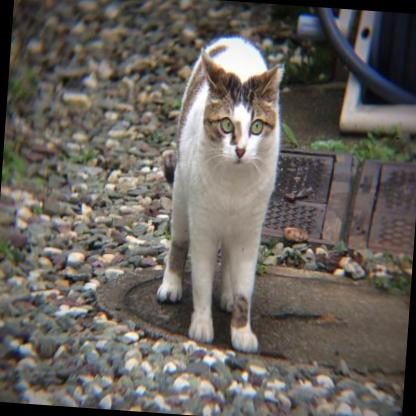manholes: (86, 206, 415, 416)
